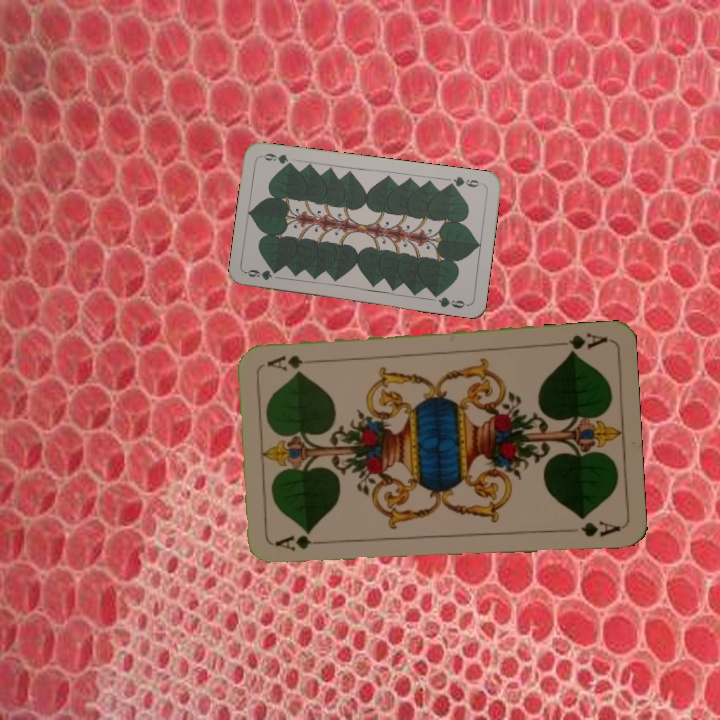G9: (444, 172, 485, 190), (243, 265, 274, 283)
GA: (551, 329, 610, 357), (272, 531, 331, 553)
